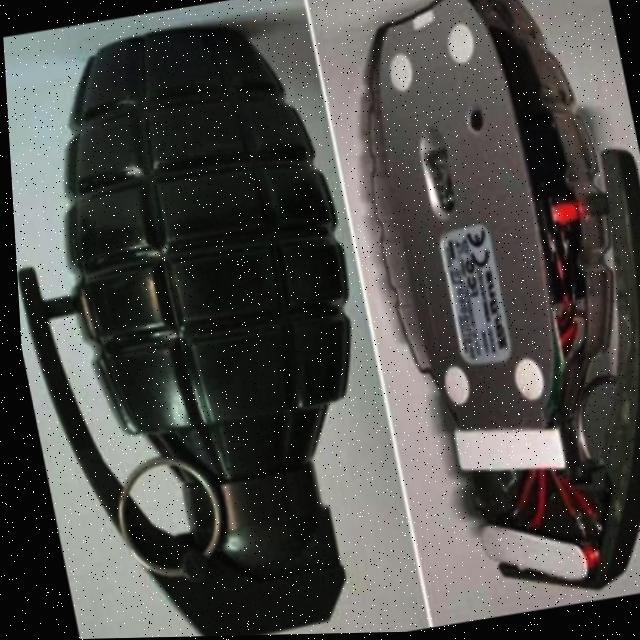grenade: (1, 5, 414, 640)
